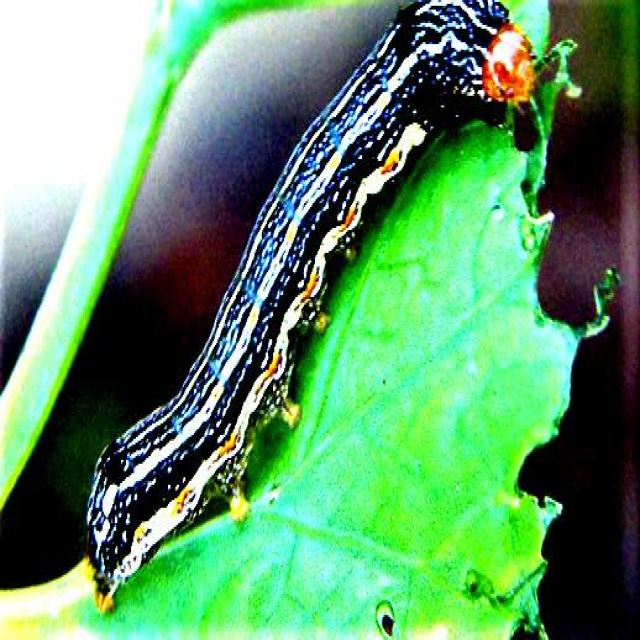armyworm: (82, 0, 580, 613)
